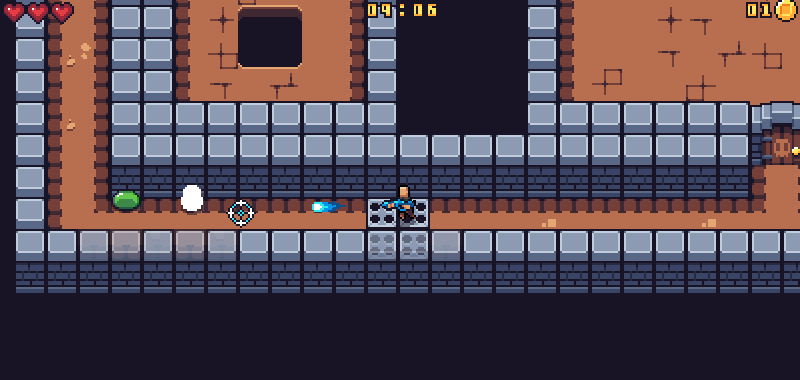door: (753, 101, 800, 162)
enemy_slug: (109, 189, 140, 211)
trap_off: (365, 196, 429, 261)
